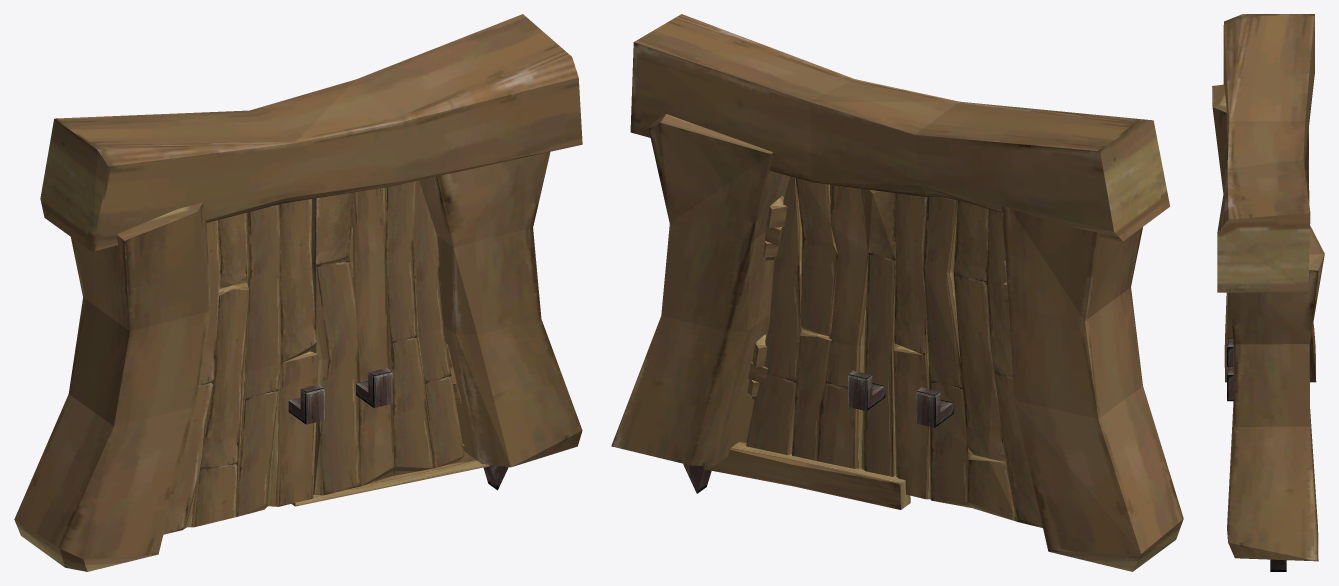
The model's file is fortress_door.obj.
3 renders of one model, left to right at view 1: azimuth 30°, elevation 25°; view 2: azimuth 150°, elevation 25°; view 3: azimuth 270°, elevation 25°, orthographic. The views are drawn at different scales.
Visible parts, largest first — view 1: door_fortress_frame, door_fortress_L, door_fortress_R, door_fortress_bar, door_fortress_bar_hold_L, door_fortress_bar_hold_R; view 2: door_fortress_frame, door_fortress_L, door_fortress_R, door_fortress_bar, door_fortress_bar_hold_R, door_fortress_bar_hold_L; view 3: door_fortress_frame, door_fortress_bar_hold_L, door_fortress_bar_tip, door_fortress_bar_hold_R.
Part boxes in pixels (box(x1,y1,x2,y2)): door_fortress_frame: box(14, 14, 582, 571); door_fortress_L: box(310, 180, 464, 495); door_fortress_R: box(163, 199, 318, 534); door_fortress_bar: box(291, 444, 489, 506); door_fortress_bar_hold_L: box(356, 368, 392, 407); door_fortress_bar_hold_R: box(288, 384, 324, 424); door_fortress_frame: box(611, 14, 1183, 571); door_fortress_L: box(746, 176, 897, 476); door_fortress_R: box(893, 193, 1042, 527); door_fortress_bar: box(704, 441, 910, 509); door_fortress_bar_hold_R: box(916, 387, 953, 427); door_fortress_bar_hold_L: box(848, 370, 885, 411); door_fortress_frame: box(1212, 14, 1324, 561); door_fortress_bar_hold_L: box(1227, 366, 1233, 401); door_fortress_bar_tip: box(1270, 559, 1286, 571); door_fortress_bar_hold_R: box(1227, 338, 1233, 366).
Size of the model in its own units: 1027 by 852 by 226.
Materials: 2 (2 with a texture image).
